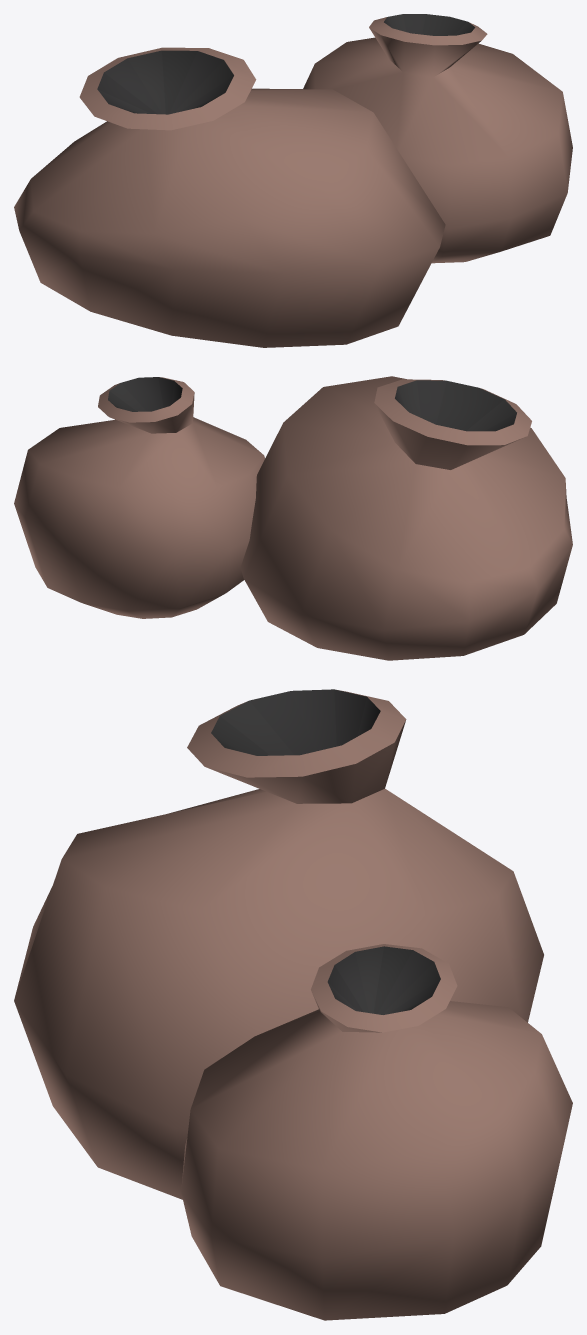
File: jug_001.glb
3 renders of one model, top to bottom at view 1: azimuth 30°, elevation 25°; view 2: azimuth 150°, elevation 25°; view 3: azimuth 270°, elevation 25°, orthographic. The views are drawn at different scales.
Parts seen in each view (by area): view 1: jug_001; view 2: jug_001; view 3: jug_001.
Boxes of the visible parts, bbox=[...] form: jug_001: bbox=[14, 14, 572, 347]; jug_001: bbox=[14, 376, 572, 660]; jug_001: bbox=[14, 689, 572, 1320].
Size of the model in its own units: 0.7318 by 0.3407 by 0.4675.
1 material, 1 textured.
